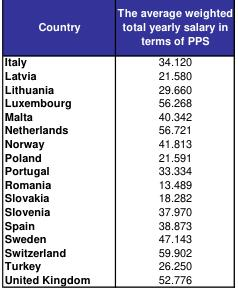table: (3, 4, 232, 286)
table column: (103, 4, 232, 286), (3, 4, 103, 286)
table column header: (3, 4, 232, 50)
table row: (3, 4, 232, 50), (3, 50, 232, 67), (3, 271, 232, 286), (3, 67, 232, 81), (3, 81, 232, 95), (3, 108, 232, 122), (3, 135, 232, 149), (3, 149, 232, 163), (3, 176, 232, 190), (3, 203, 232, 217), (3, 217, 232, 231), (3, 244, 232, 258), (3, 95, 232, 108), (3, 122, 232, 135), (3, 163, 232, 176), (3, 190, 232, 203), (3, 231, 232, 244), (3, 258, 232, 271)
